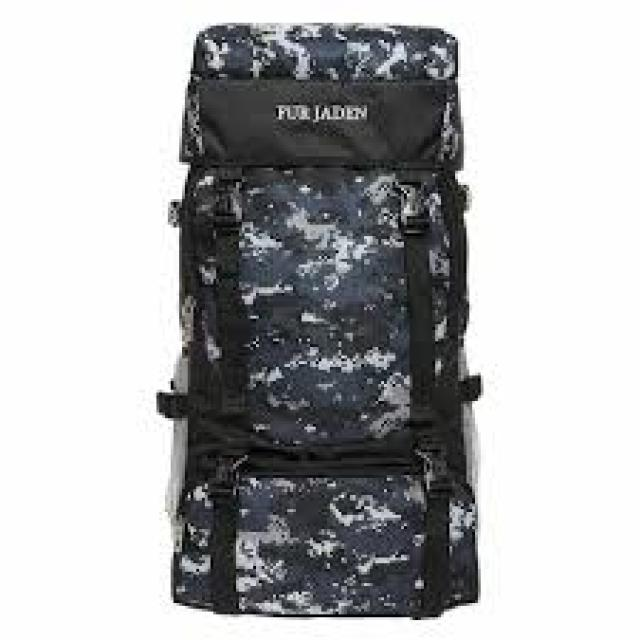backpack: (155, 21, 485, 618)
